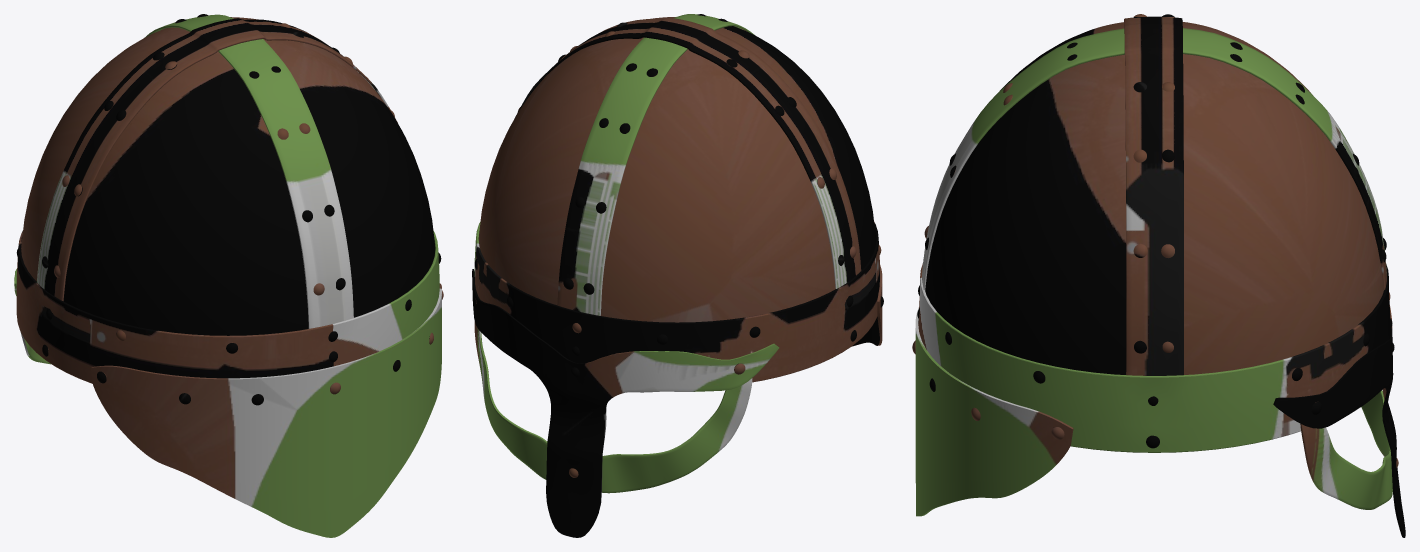
The model's file is vikingHelmet.gltf.
3 views of the same model, side by side, from view 1: azimuth 30°, elevation 25°; view 2: azimuth 150°, elevation 25°; view 3: azimuth 270°, elevation 25° (orthographic). The views are drawn at different scales.
Parts seen in each view (by area): view 1: vikingHelmet; view 2: vikingHelmet; view 3: vikingHelmet.
Boxes of the visible parts, left/top/right/bottom form: vikingHelmet: left=14, top=14, right=443, bottom=537; vikingHelmet: left=472, top=14, right=883, bottom=537; vikingHelmet: left=912, top=14, right=1405, bottom=537.
Bounding box in the file's own units: 1.42 × 1.64 × 1.46.
